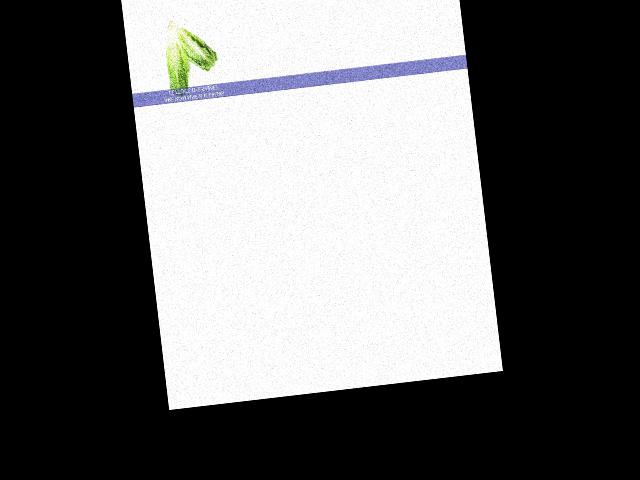lettuce: (164, 16, 218, 79)
